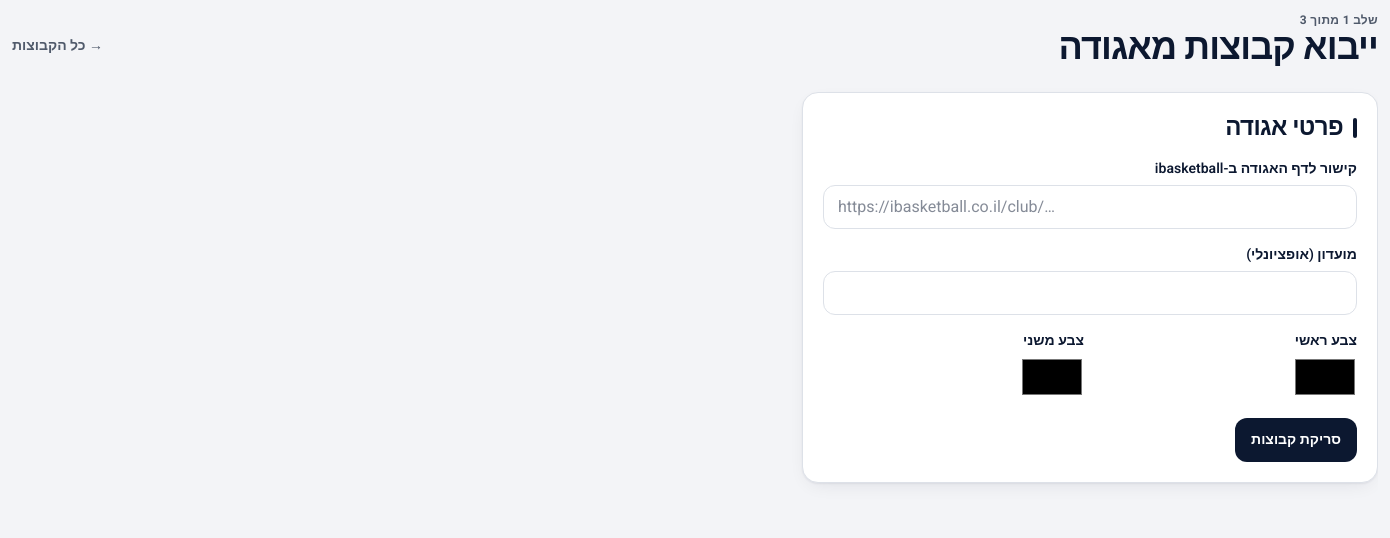
AdminClubImportView › shows an error when the scan cannot be started
Type "https://ibasketball.co.il/club/3901-2/" into the field with id "club-url".
click(1090, 207); type("https://ibasketball.co.il/club/3901-2/")  # box left=823, top=185, right=1357, bottom=229
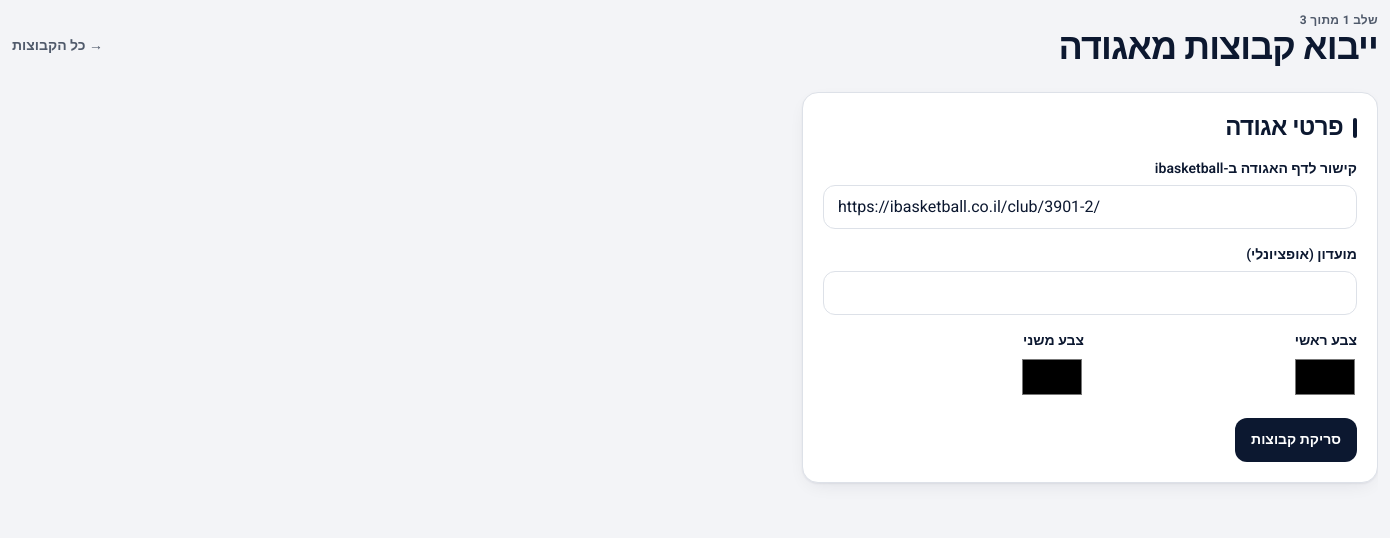
Type "#112233" into the colour field with id "club-primary-color".
click(1325, 377); type("#112233")  # box left=1293, top=355, right=1357, bottom=399
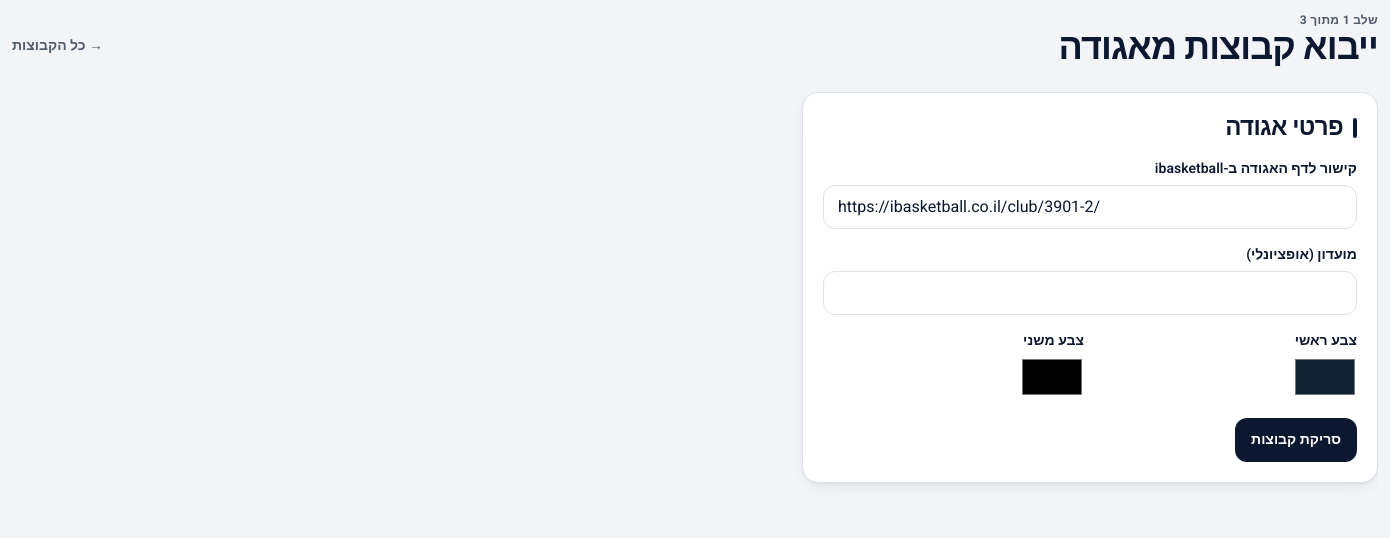
Type "#445566" into the colour field with id "club-secondary-color".
click(1052, 377); type("#445566")  # box left=1020, top=355, right=1084, bottom=399
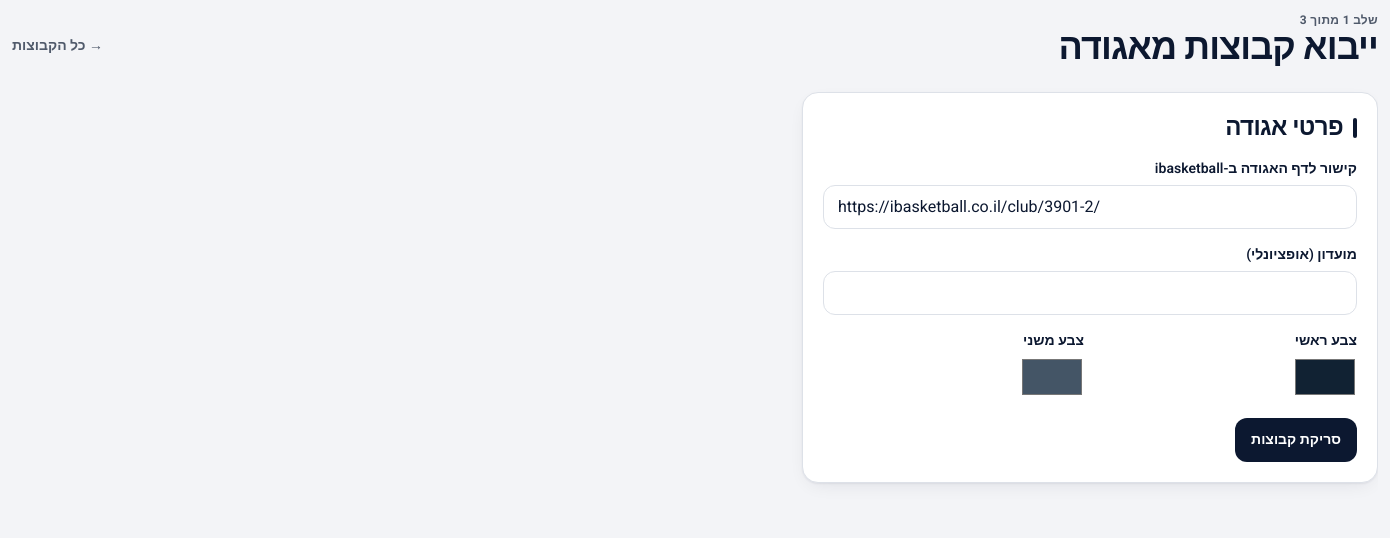
Submit the form, box left=802, top=92, right=1378, bottom=483
Wait 3000 ms
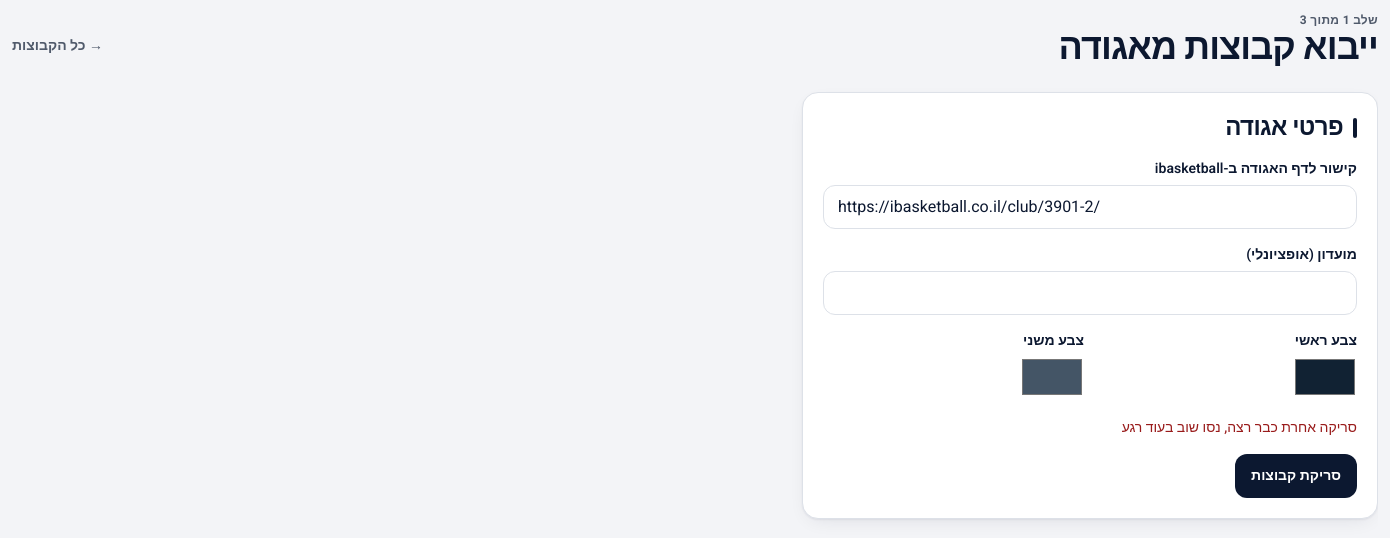
Now the message "סריקה אחרת כבר רצה, נסו שוב בעוד רגע" is shown, box left=1122, top=417, right=1357, bottom=438
